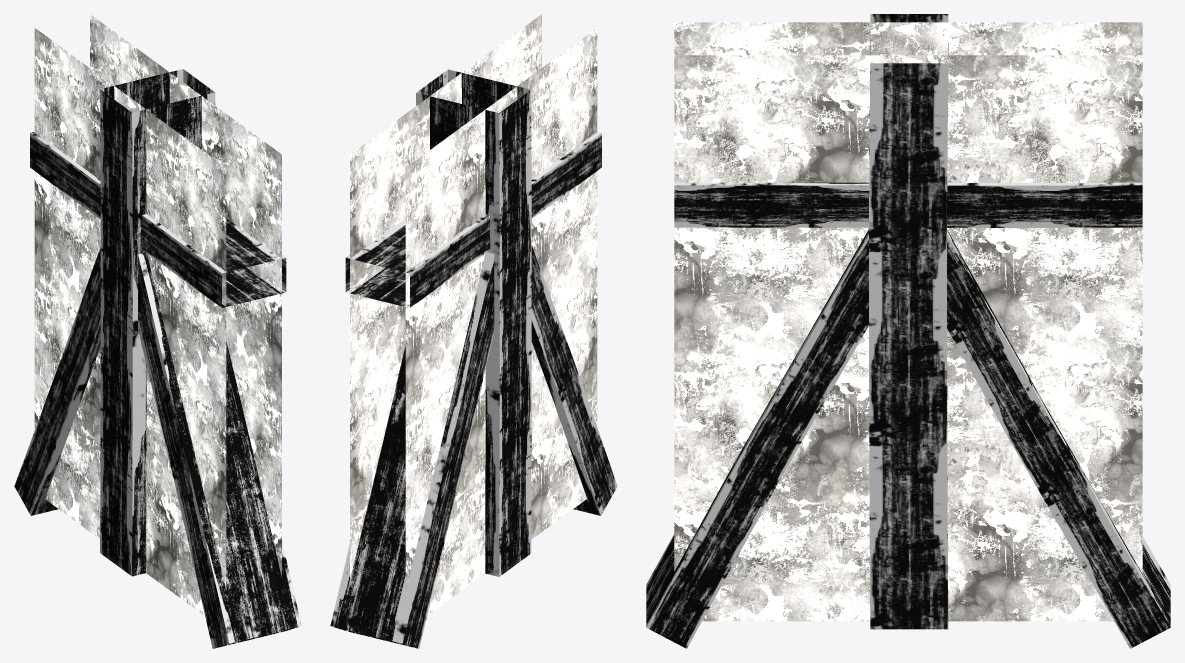
The model's file is SM_wall_A_3x4_02_02.fbx.
3 views of the same model, side by side, from view 1: azimuth 30°, elevation 25°; view 2: azimuth 150°, elevation 25°; view 3: azimuth 270°, elevation 25° (orthographic). The views are drawn at different scales.
Visible parts, largest first — view 1: SM_wall_A_3x4_02_02_LOD0; view 2: SM_wall_A_3x4_02_02_LOD0; view 3: SM_wall_A_3x4_02_02_LOD0.
Part boxes in pixels (x1,y1,x2,y2): SM_wall_A_3x4_02_02_LOD0: (14,14,301,648); SM_wall_A_3x4_02_02_LOD0: (330,14,617,648); SM_wall_A_3x4_02_02_LOD0: (646,14,1170,648).
Size of the model in its own units: 75 by 336 by 416.
Materials: 3 (3 with a texture image).
